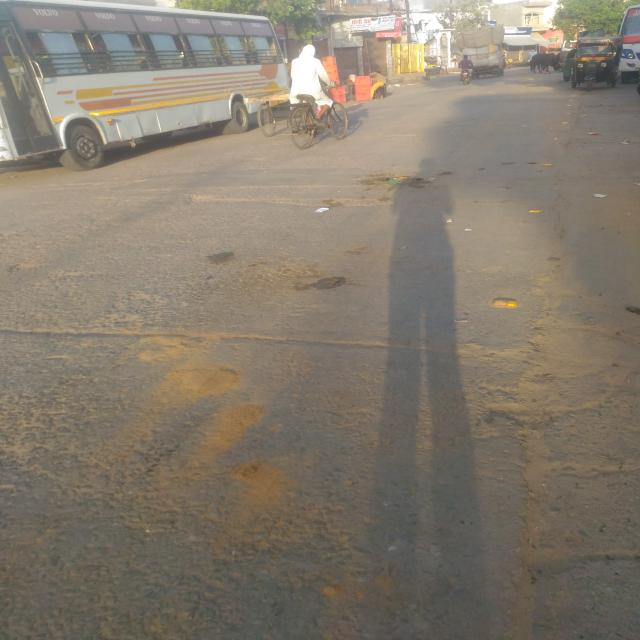Auto: (572, 35, 623, 90)
